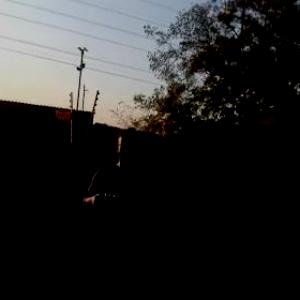follow: (70, 122, 156, 299)
